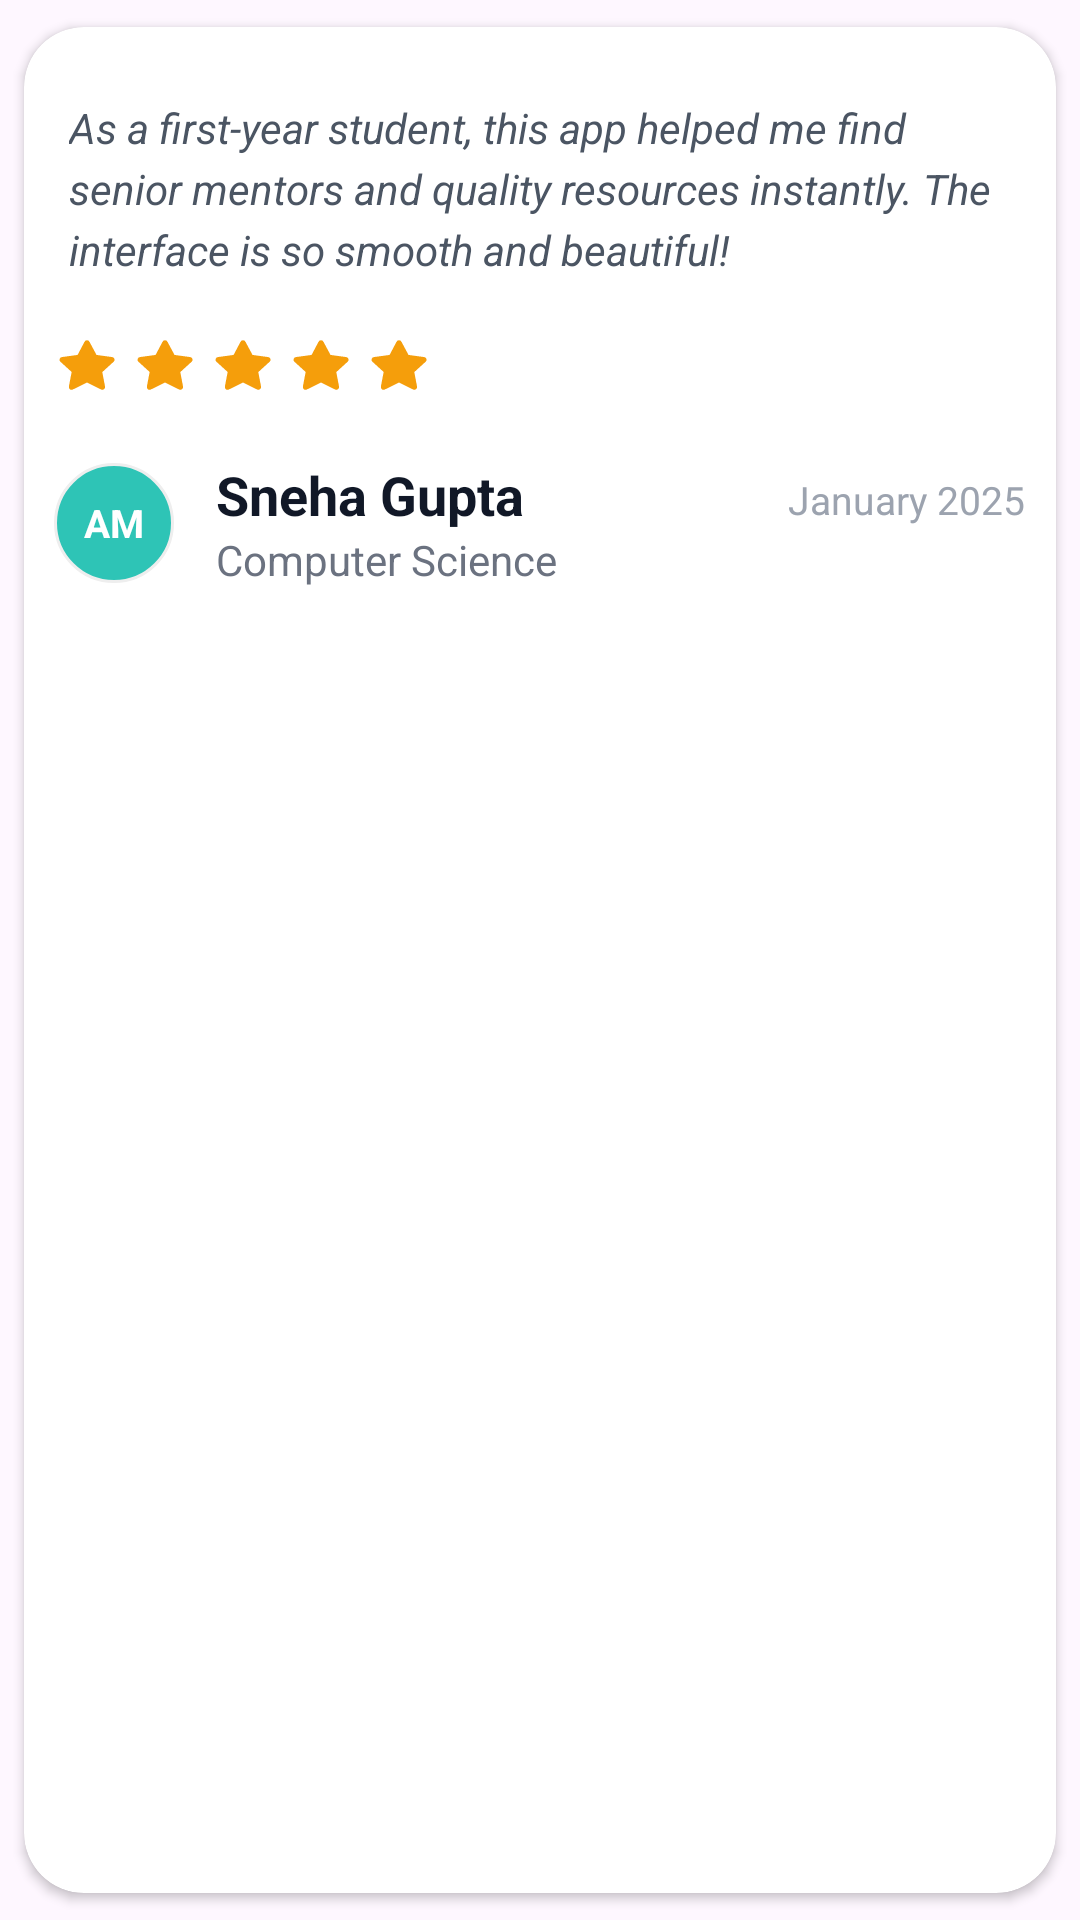

Locate icon controls on the screen. Image size 1080px x 1920px, boxes as (x1, y1, x2, y2).
star: (59, 340, 115, 390), (137, 340, 193, 390), (215, 340, 271, 390), (293, 340, 349, 390), (371, 340, 427, 390)
